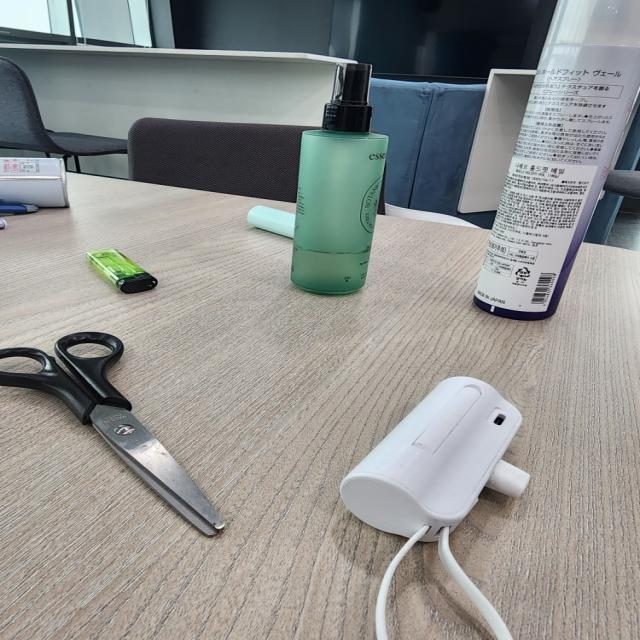lighter: (84, 247, 158, 293)
portable_charger: (330, 376, 536, 540)
scissors: (2, 327, 230, 537)
spray: (472, 0, 640, 318), (292, 62, 390, 296)
